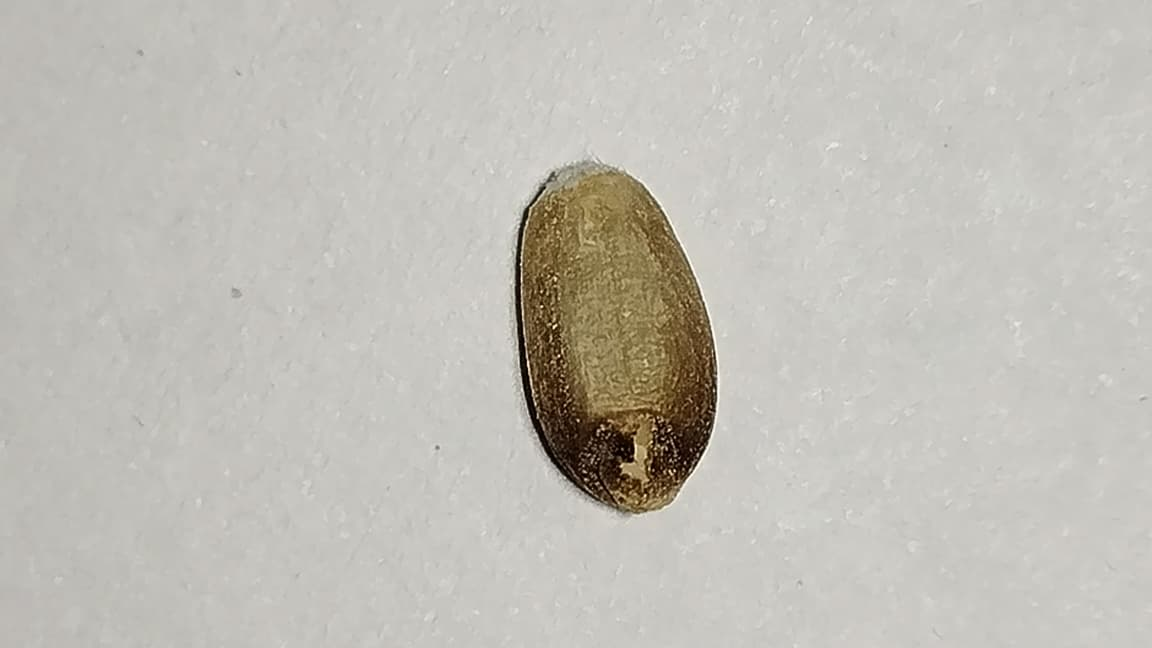damage: (516, 162, 715, 511)
staindamage: (516, 286, 730, 515)
